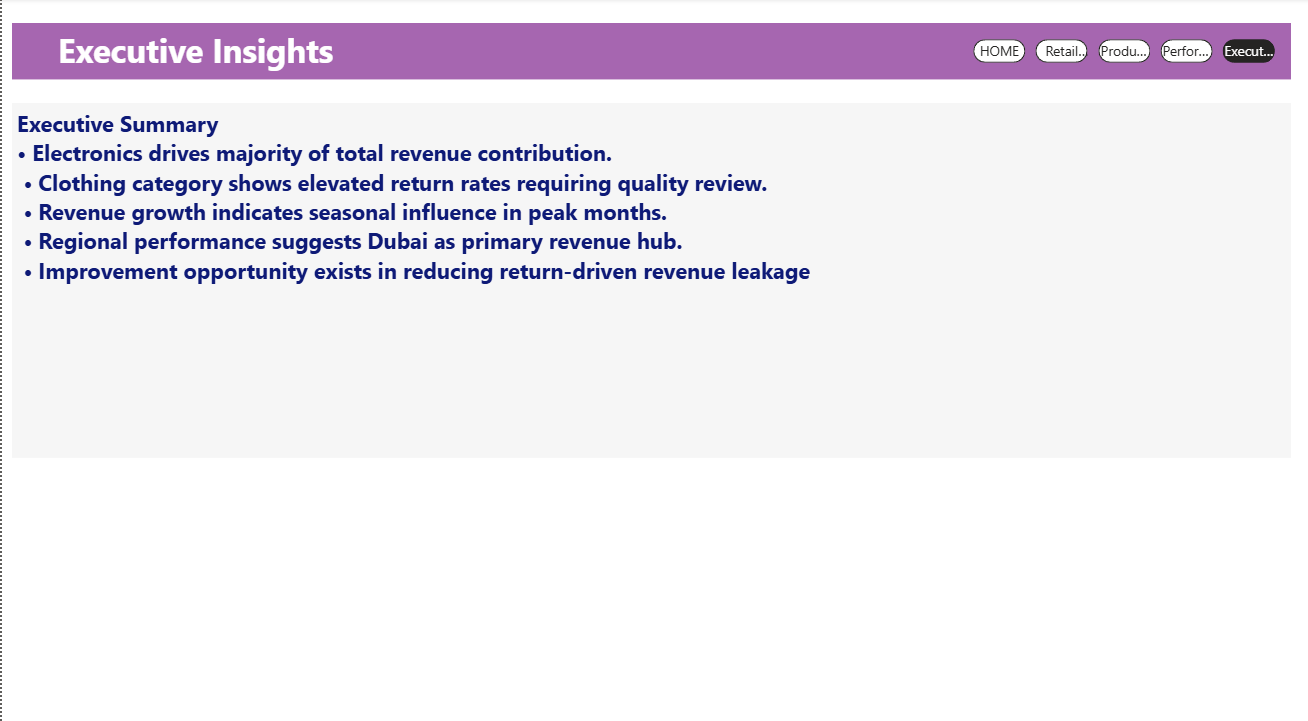

The dashboard page shown, as its layout file describes it:
{"tool":"powerbi","page":{"name":"Executive Insights","canvas":[1280,720],"ordinal":4},"visuals":[{"type":"textbox","box":[9.8,24.5,1251,55],"z":0},{"type":"textbox","box":[9.8,102.7,1251,347.3],"z":1},{"type":"pageNavigator","box":[950.1,40.4,298.4,23.2],"z":2}]}

Visuals, with their boxes on the page's 1280x720 design canvas (x1, y1, x2, y2). These are canvas units, not pixel positions in the 1308x721 screenshot, which may show the page scaled, cropped or inside an application window:
textbox: box(10, 24, 1261, 80)
textbox: box(10, 103, 1261, 450)
pageNavigator: box(950, 40, 1248, 64)
